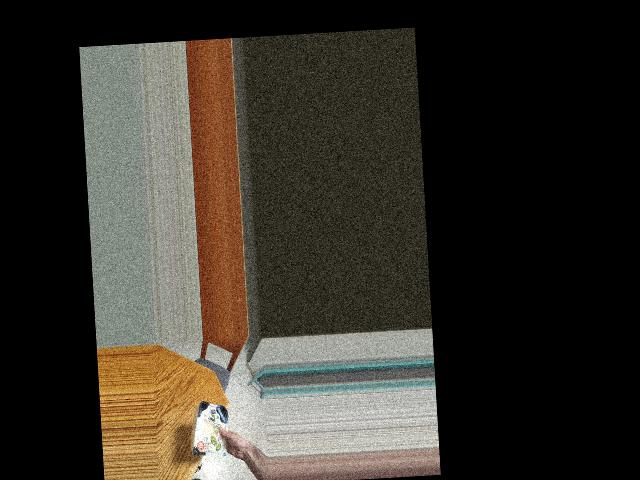cheese: (195, 398, 233, 460)
